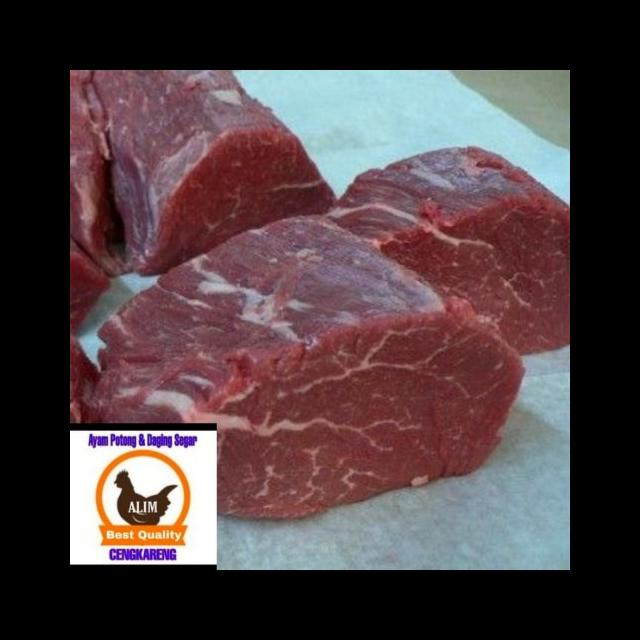beef: (80, 208, 531, 523), (71, 70, 352, 305), (285, 136, 570, 365)
